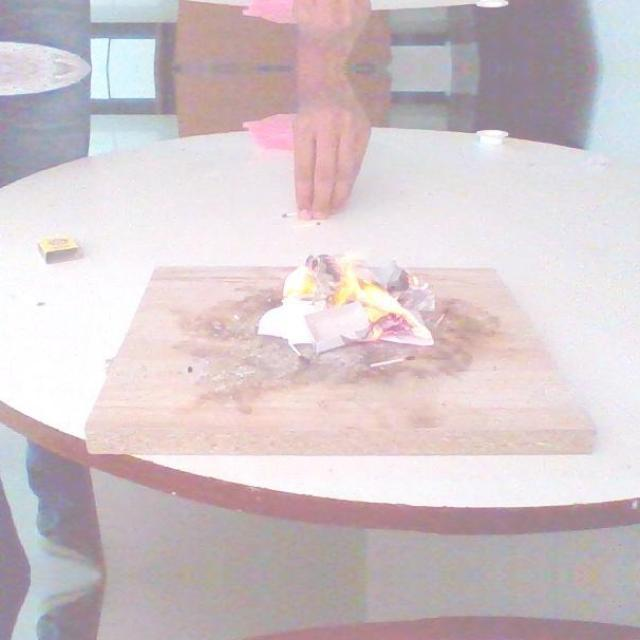smoke: (332, 254, 434, 340), (278, 258, 320, 306)
